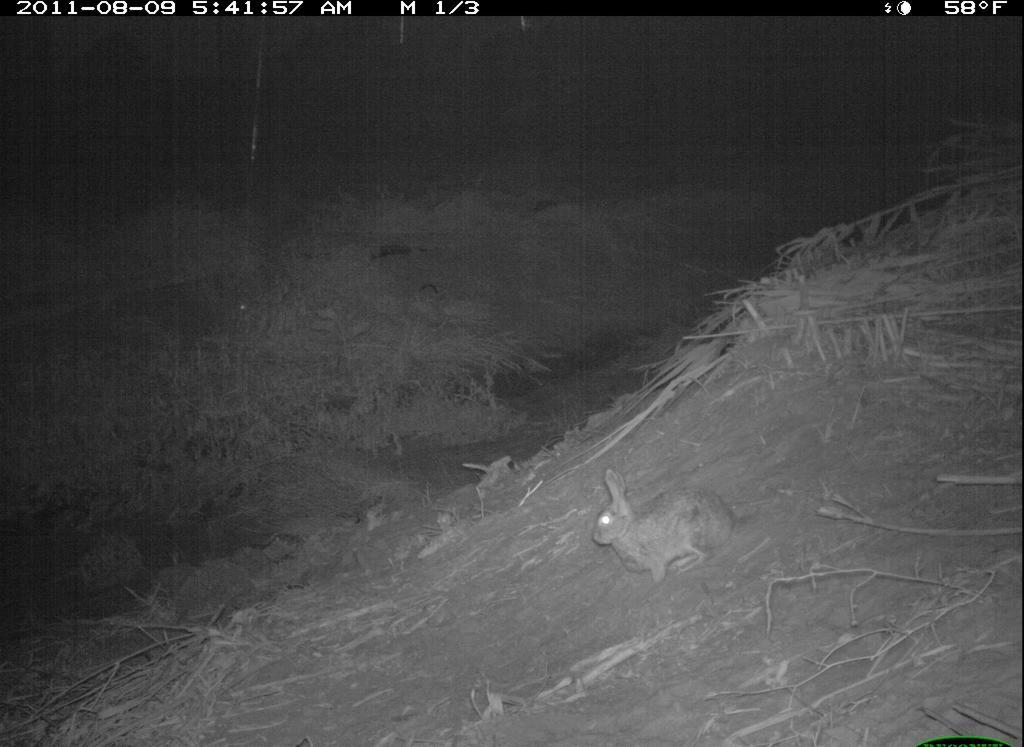rabbit: (588, 463, 760, 582)
